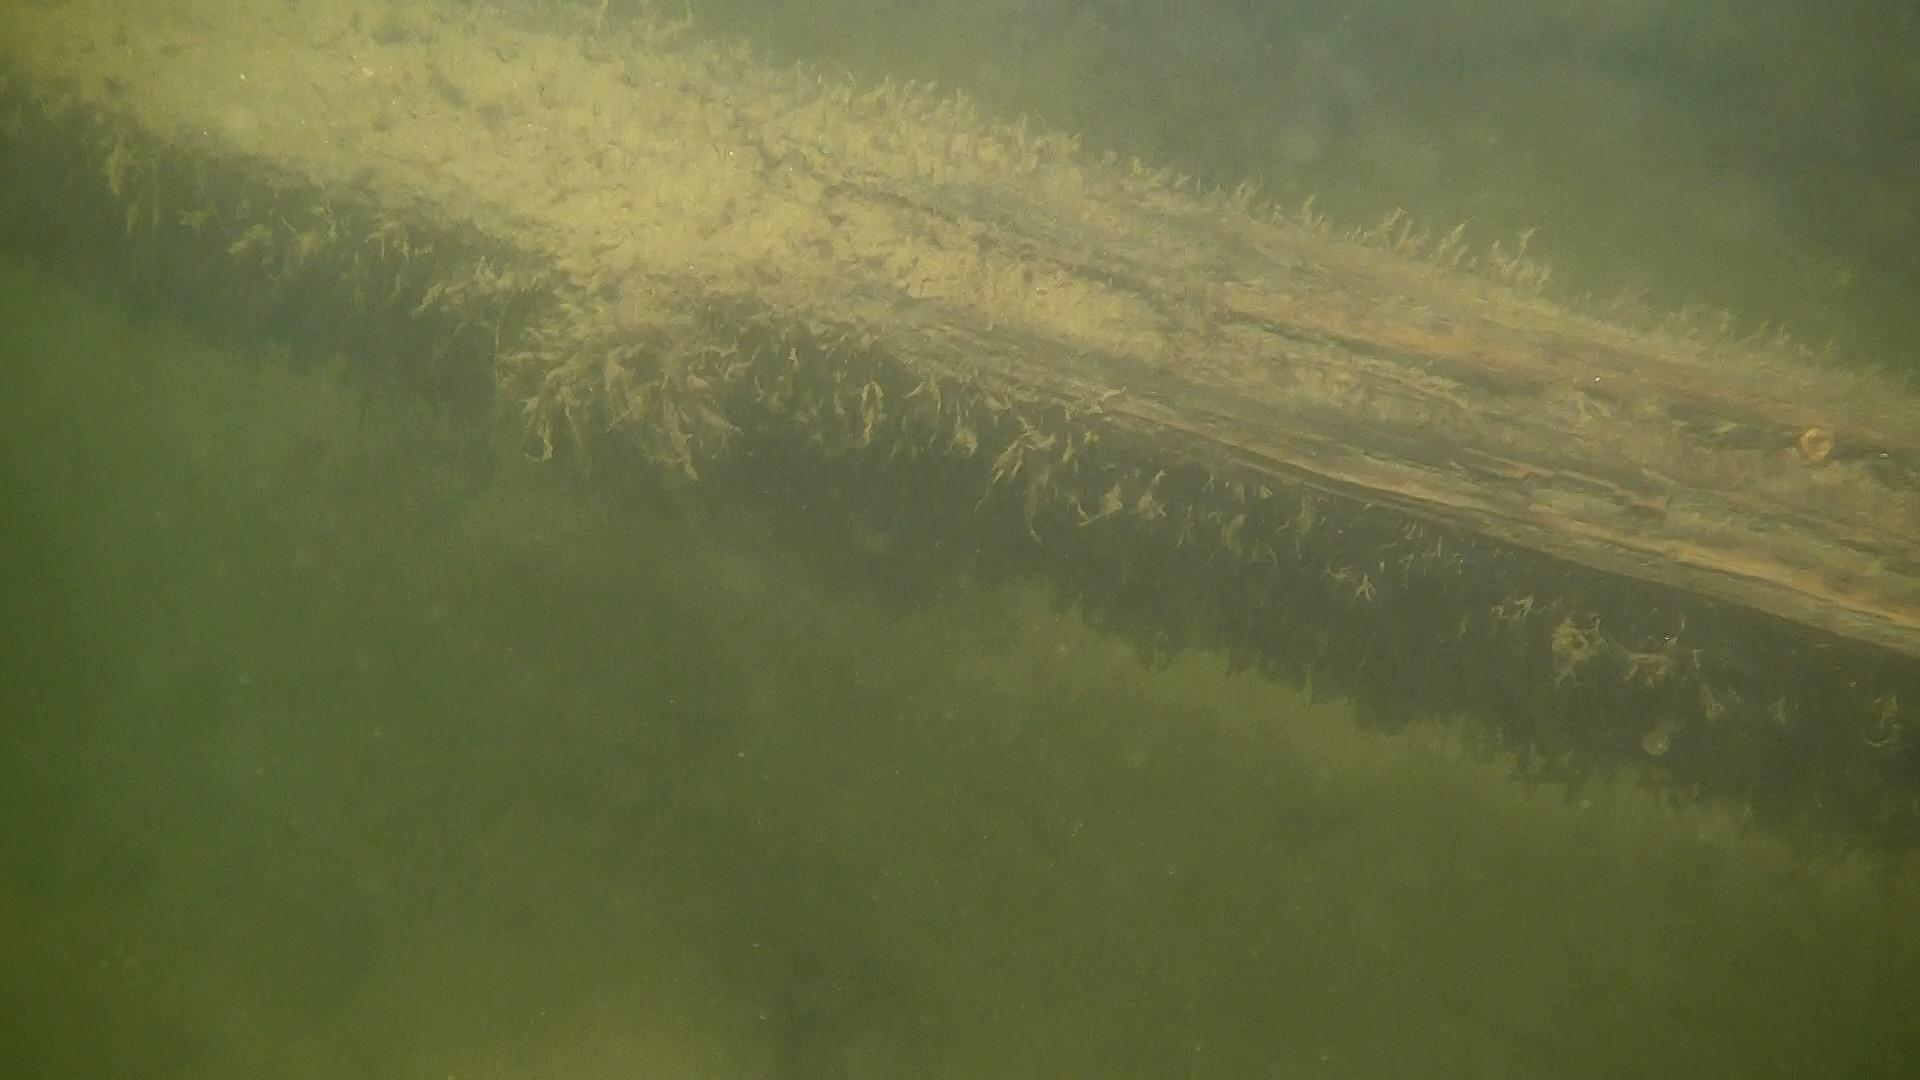wood: (0, 0, 1920, 861)
